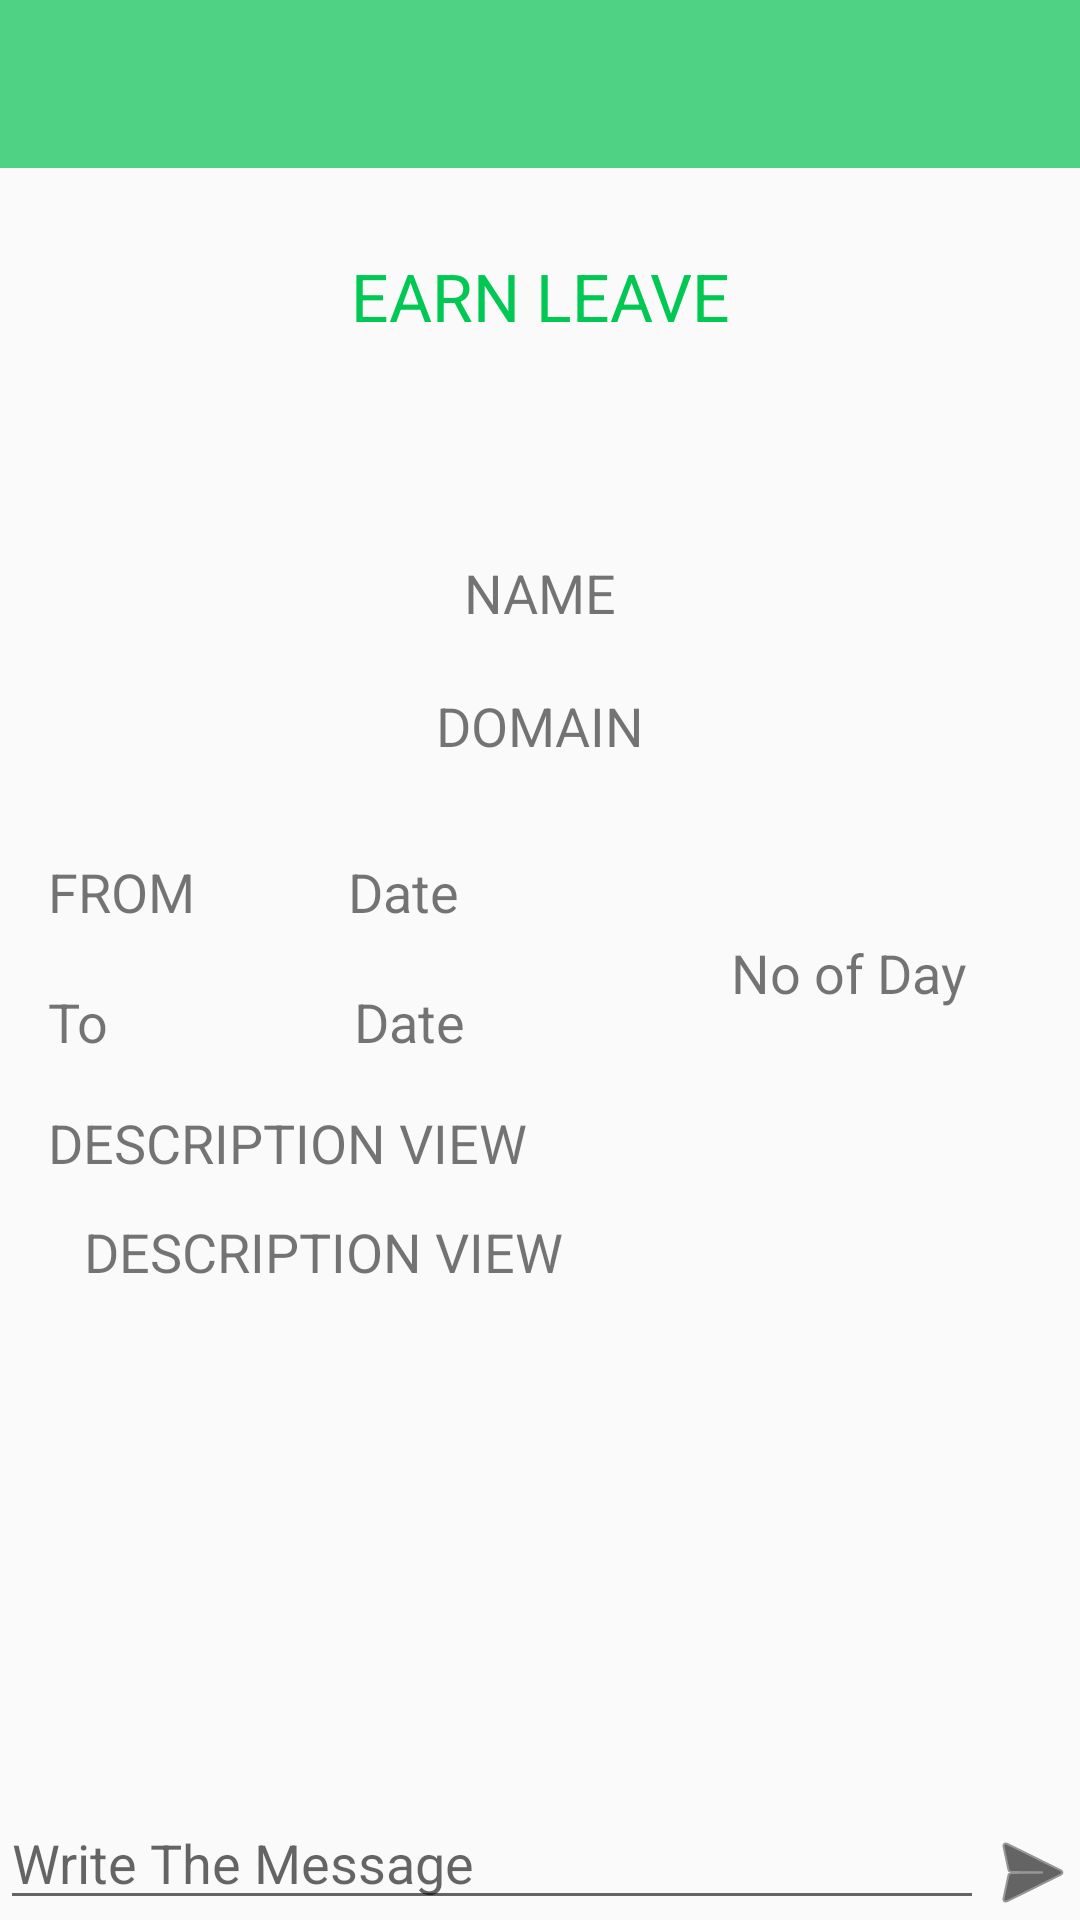

Icon bounding boxes for this 1080w x 1920h phone screenshot, format region(x1, y1, x2, y2):
send: region(1002, 1842, 1064, 1903)
